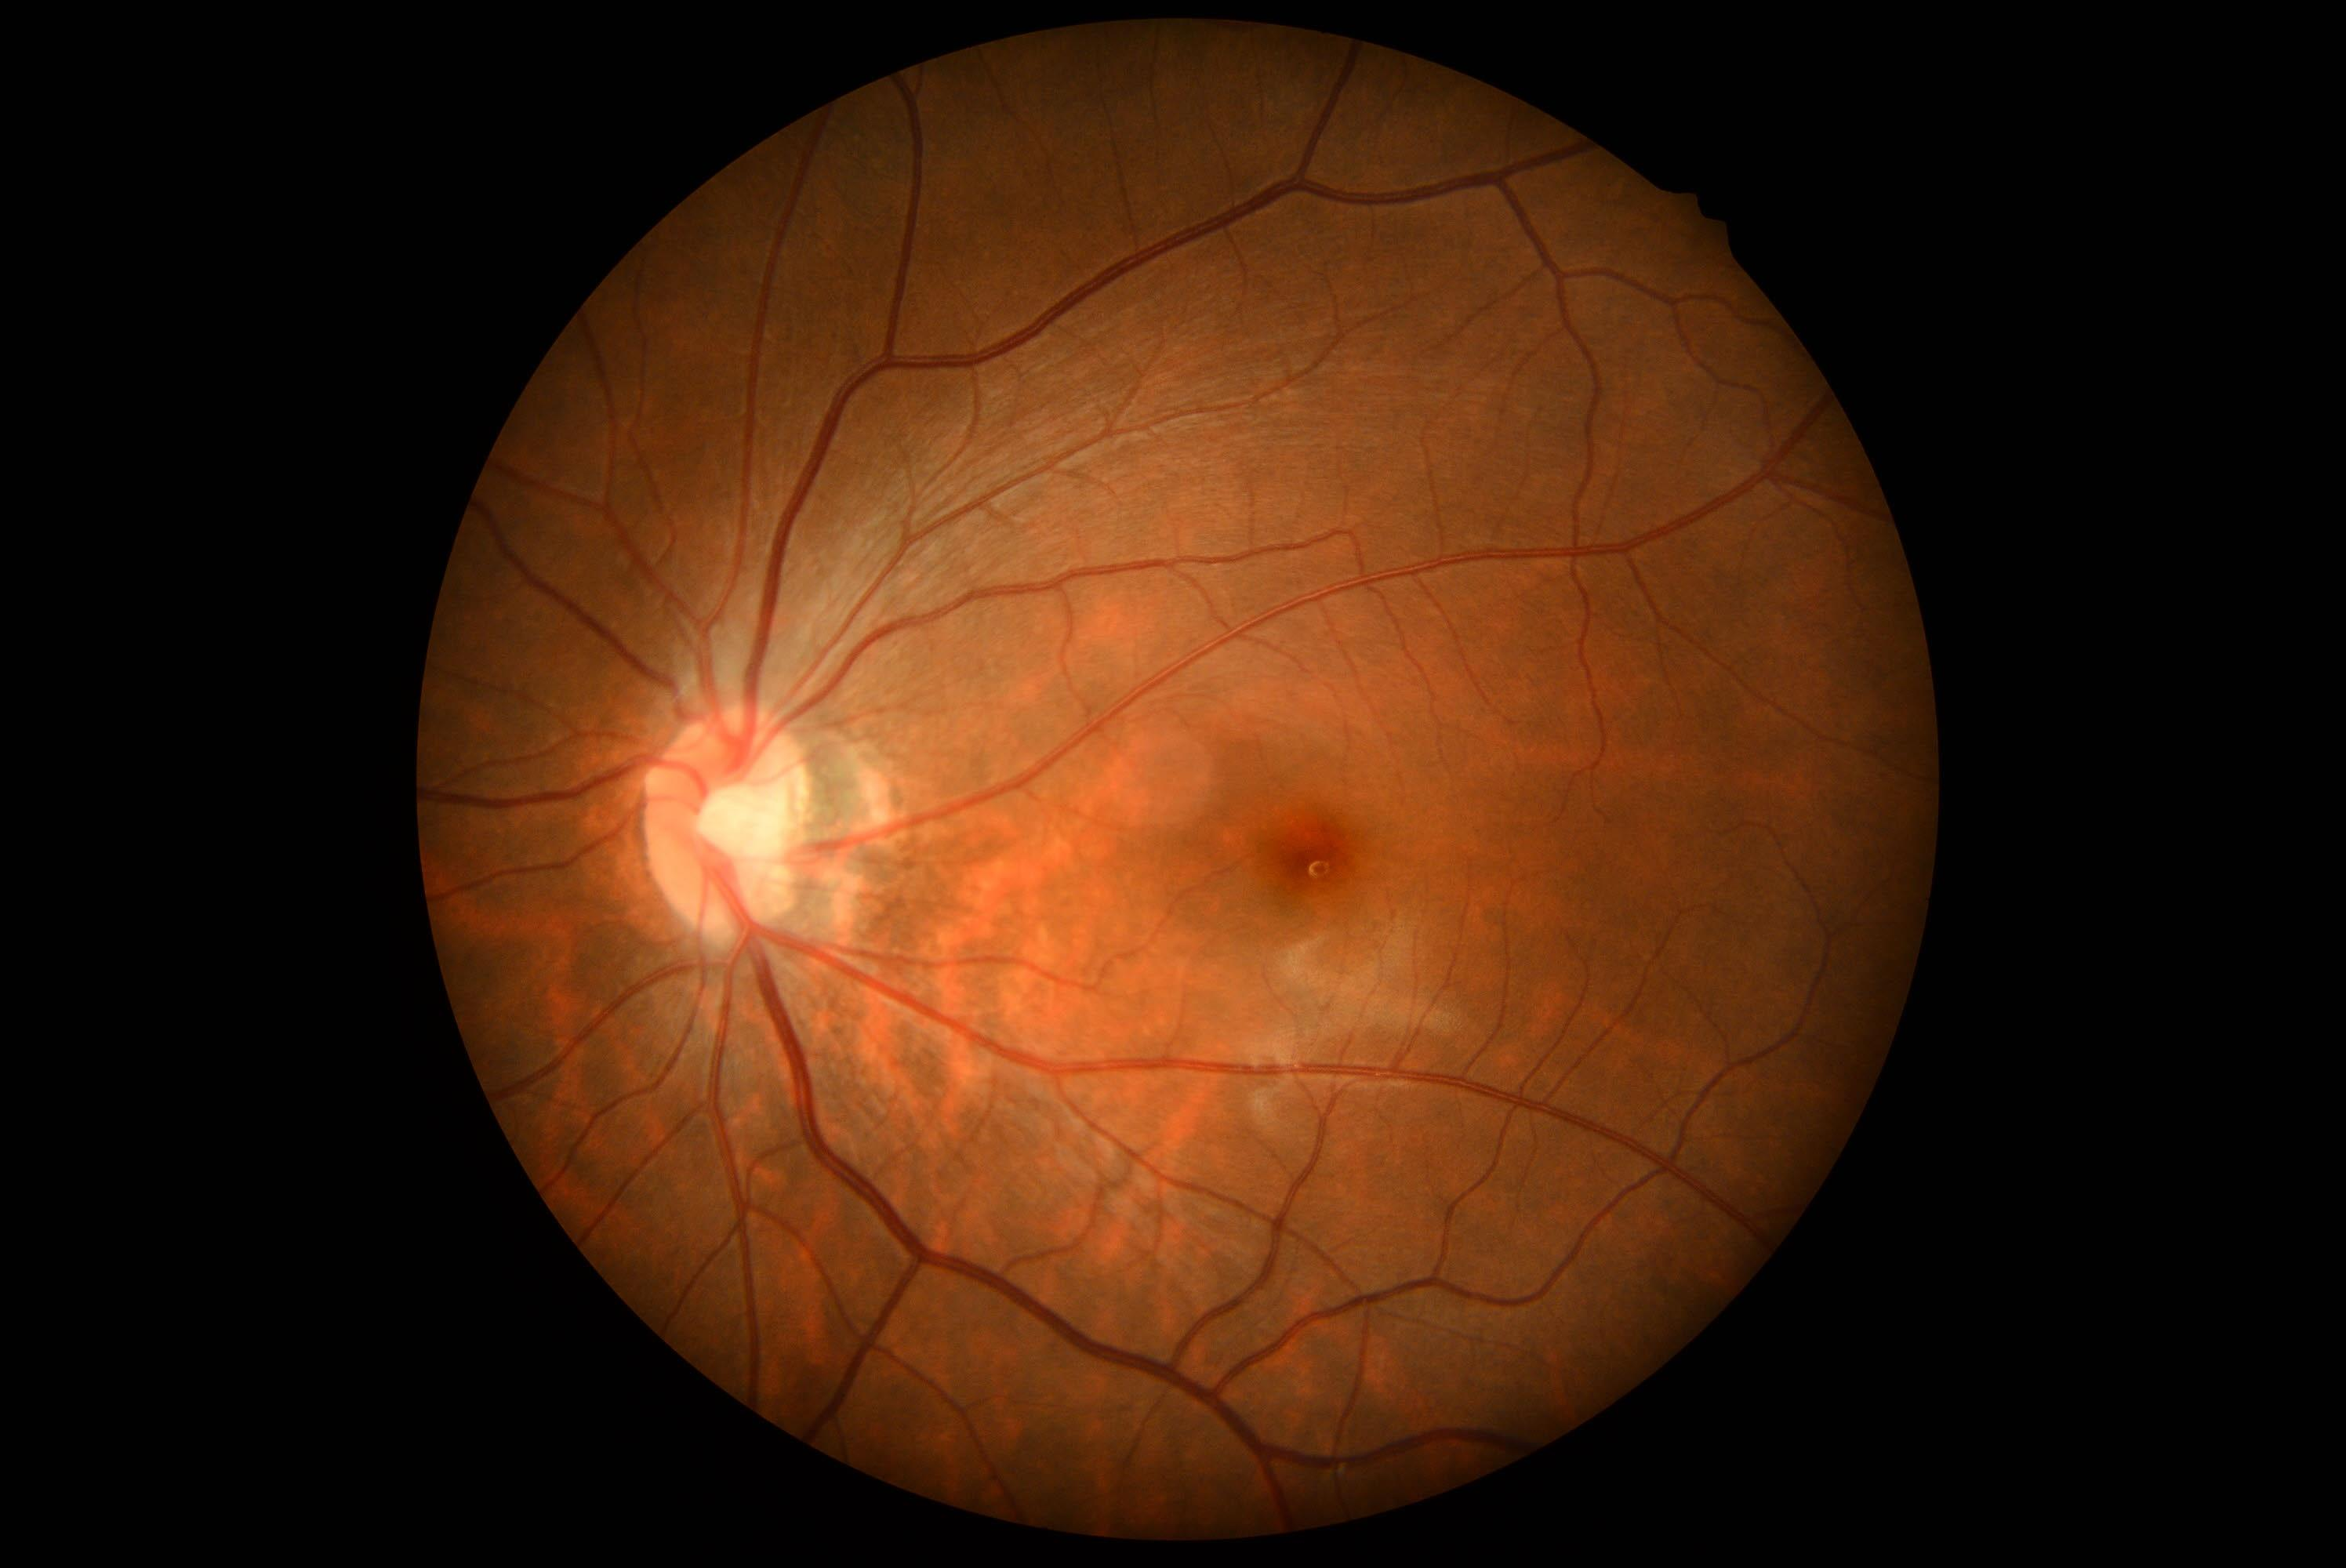Fovea: (1239, 786, 1386, 935)
